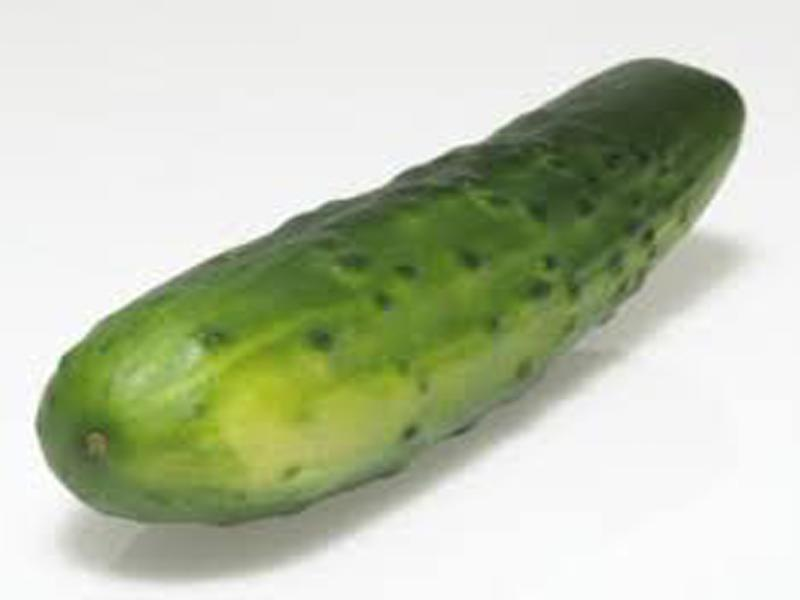Cucumber: (41, 58, 745, 519)
